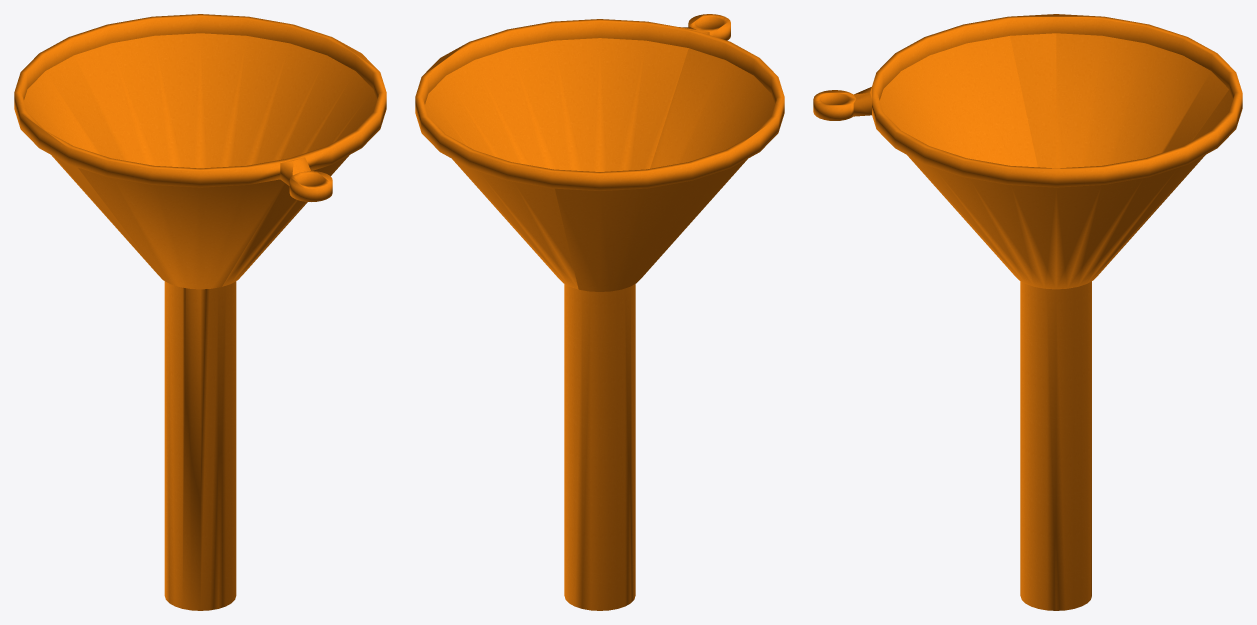
3 views of the same model, side by side, from view 1: azimuth 30°, elevation 25°; view 2: azimuth 150°, elevation 25°; view 3: azimuth 270°, elevation 25° (orthographic).
Parts seen in each view (by area): view 1: root; view 2: root; view 3: root.
Part boxes in pixels (left/top/right/bottom): root: left=14, top=14, right=386, bottom=610; root: left=415, top=14, right=784, bottom=610; root: left=813, top=14, right=1242, bottom=610.
Bounding box in the file's own units: 1.32 × 1.97 × 1.52.
1 material, 1 textured.
